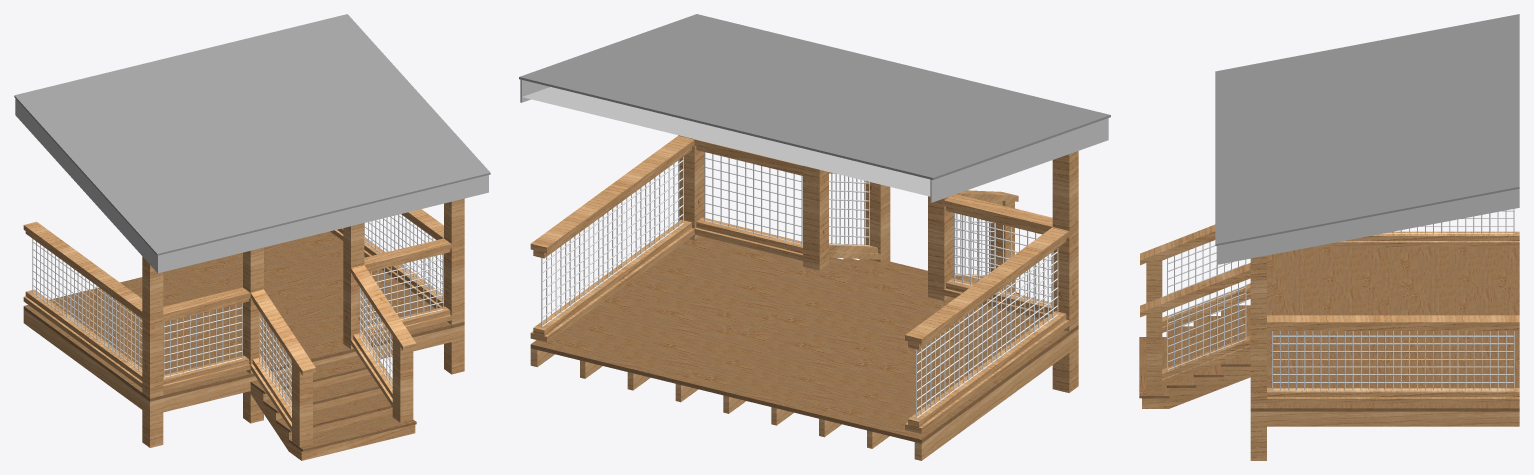
The model's file is ext-door-2.glb.
The picture shows the model from 3 angles, left to right: view 1: azimuth 30°, elevation 25°; view 2: azimuth 150°, elevation 25°; view 3: azimuth 270°, elevation 25°; orthographic projection. The views are drawn at different scales.
Parts seen in each view (by area): view 1: Deck_rooftop, Deck_wood, Deck_floorfinish.001, Deck_metal, Deck_roofsiding; view 2: Deck_floorfinish.001, Deck_rooftop, Deck_wood, Deck_metal, Deck_roofsiding; view 3: Deck_rooftop, Deck_floorfinish.001, Deck_wood, Deck_metal, Deck_roofsiding.
Part boxes in pixels (x1=…): Deck_rooftop: x1=14, y1=14, x2=490, y2=255; Deck_wood: x1=23, y1=198, x2=464, y2=460; Deck_floorfinish.001: x1=23, y1=231, x2=464, y2=451; Deck_metal: x1=32, y1=214, x2=443, y2=410; Deck_roofsiding: x1=15, y1=98, x2=488, y2=273; Deck_floorfinish.001: x1=530, y1=236, x2=1078, y2=443; Deck_rooftop: x1=519, y1=14, x2=1110, y2=179; Deck_wood: x1=530, y1=135, x2=1078, y2=460; Deck_metal: x1=541, y1=152, x2=1058, y2=418; Deck_roofsiding: x1=520, y1=79, x2=1108, y2=202; Deck_rooftop: x1=1215, y1=14, x2=1519, y2=245; Deck_floorfinish.001: x1=1139, y1=247, x2=1519, y2=411; Deck_wood: x1=1140, y1=224, x2=1519, y2=460; Deck_metal: x1=1167, y1=209, x2=1514, y2=390; Deck_roofsiding: x1=1216, y1=188, x2=1519, y2=264.
Size of the model in its own units: 3.83 by 2.88 by 3.56.
5 materials, 2 textured.
